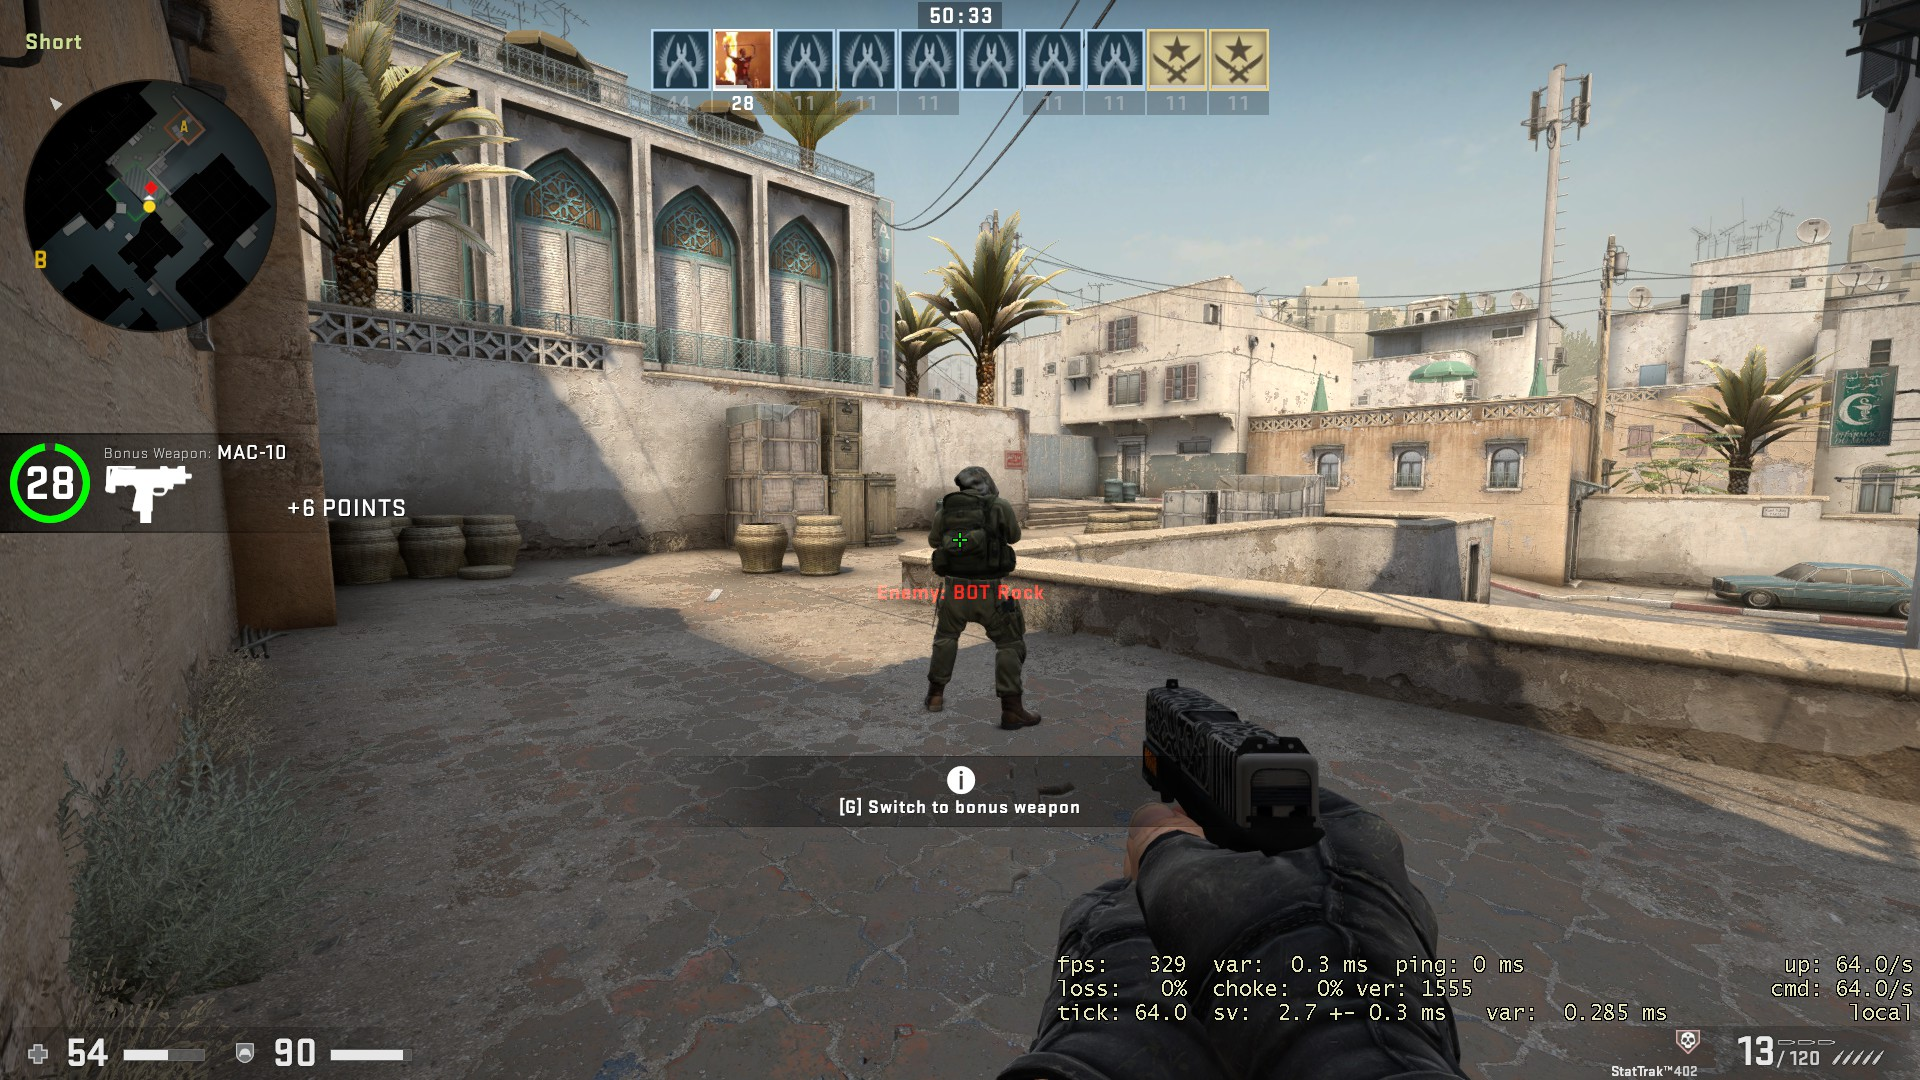player: (912, 465, 1048, 733)
